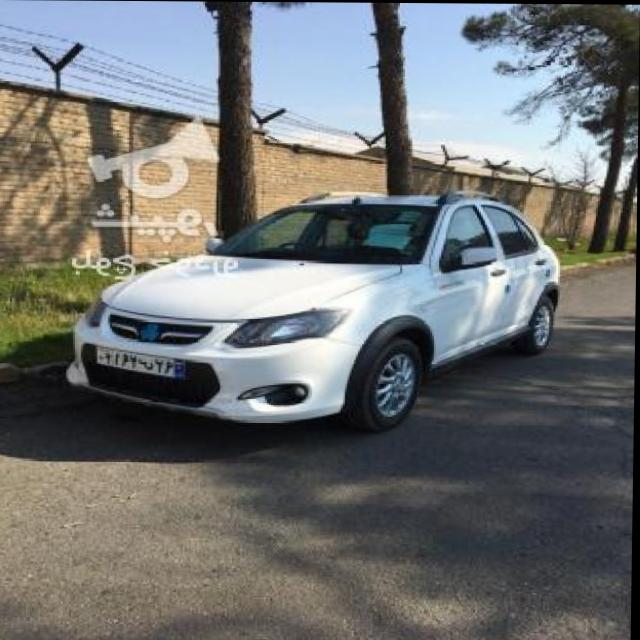licence: (100, 344, 189, 380)
